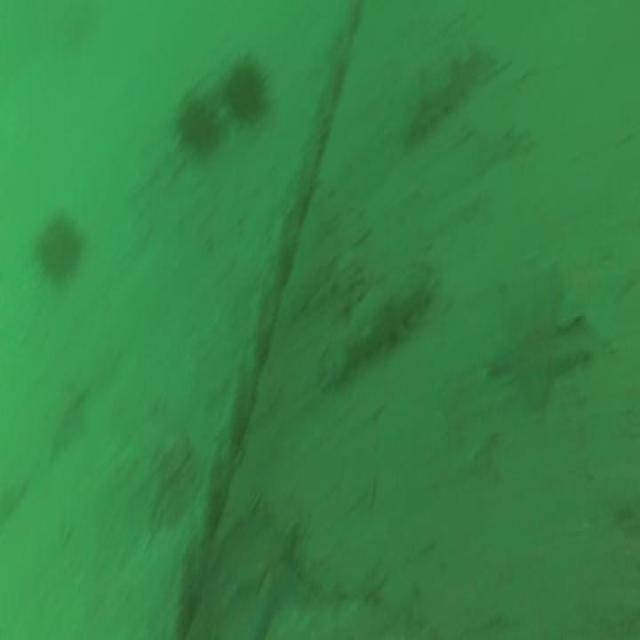echinus: (224, 62, 264, 122), (38, 223, 78, 278), (178, 104, 215, 154)
holothurian: (317, 264, 431, 385), (392, 40, 497, 142)
starfish: (485, 272, 593, 404), (234, 521, 308, 637)
